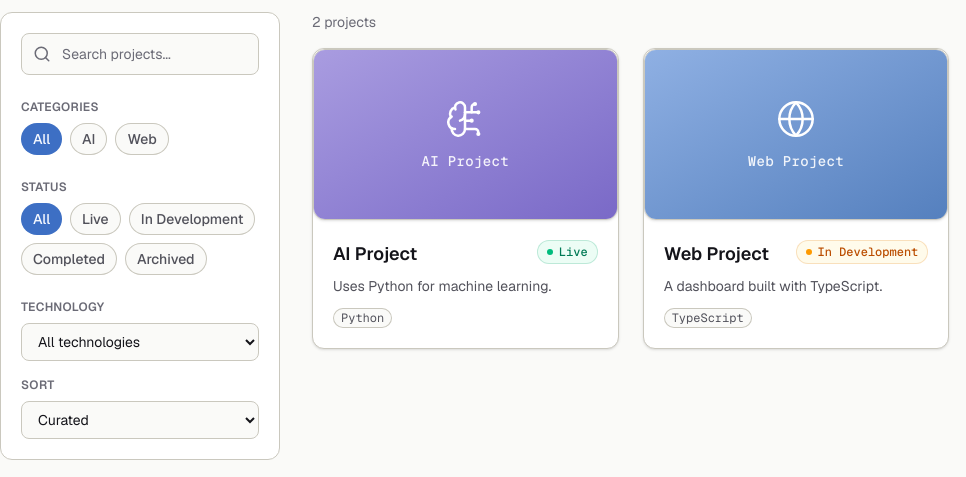
ProjectsExplorer › filters by category
Click the button "Web".
click(142, 139)  # box [115,123,169,155]
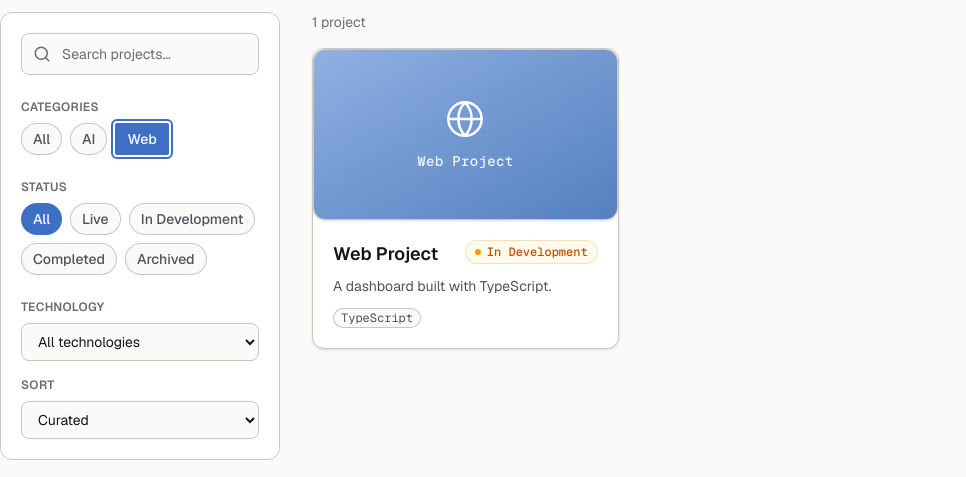
Expected: the heading "Web Project" is shown, [333,240,438,268]
Now the text "AI Project" is gone
